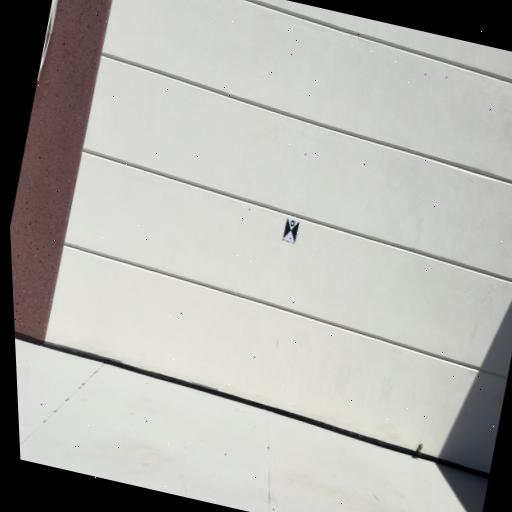target0: (282, 217, 300, 244)
